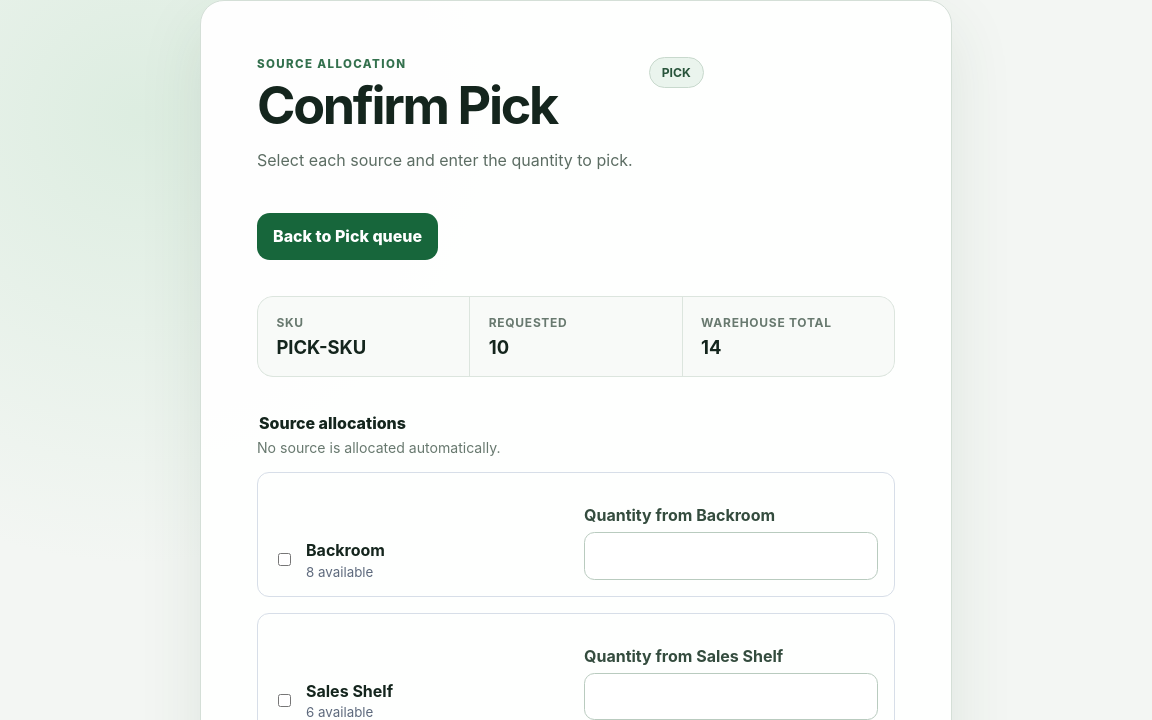
US-PICK-001 Pick page › requires a second explicit action before posting a partial Pick
This screenshot has width=1152, height=720.
Check: the text "PICK-SKU" is shown, box top-left (276, 336), bottom-right (366, 358)
Click the checkbox labelled "Backroom 8 available" at {"x": 284, "y": 560}, box top-left (278, 553), bottom-right (291, 566)
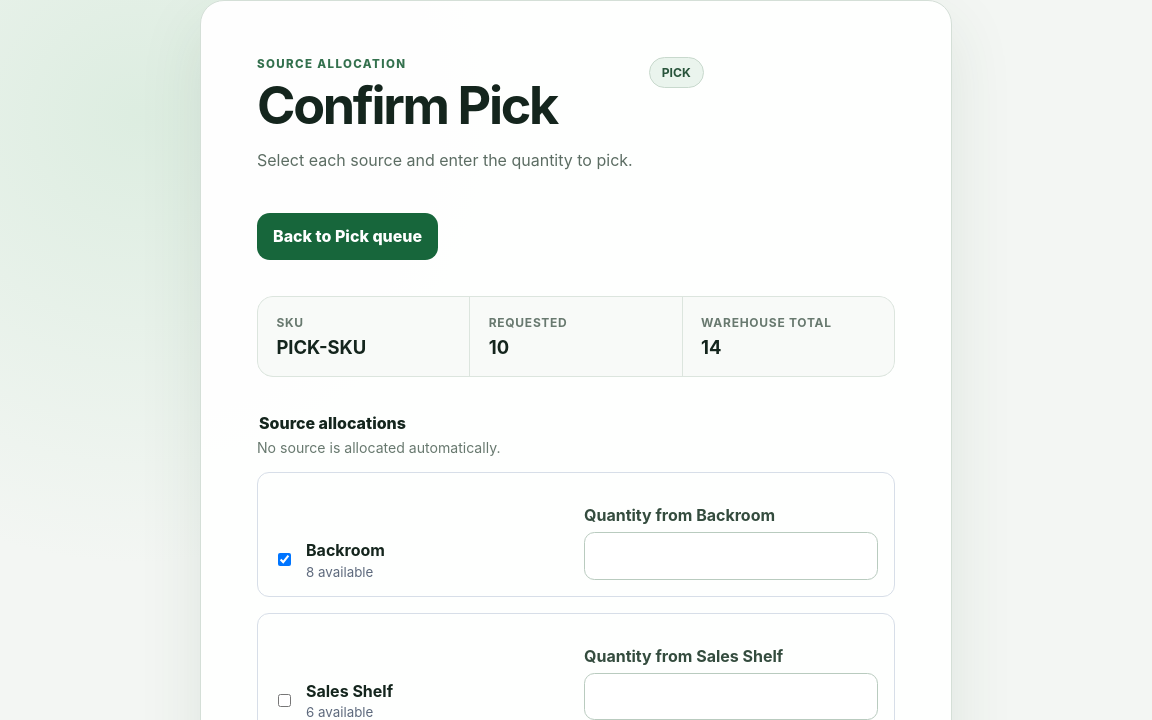
Type "6" into the field labelled "Quantity from Backroom" at {"x": 731, "y": 556}, box top-left (584, 532), bottom-right (878, 580)
(page scrolled)
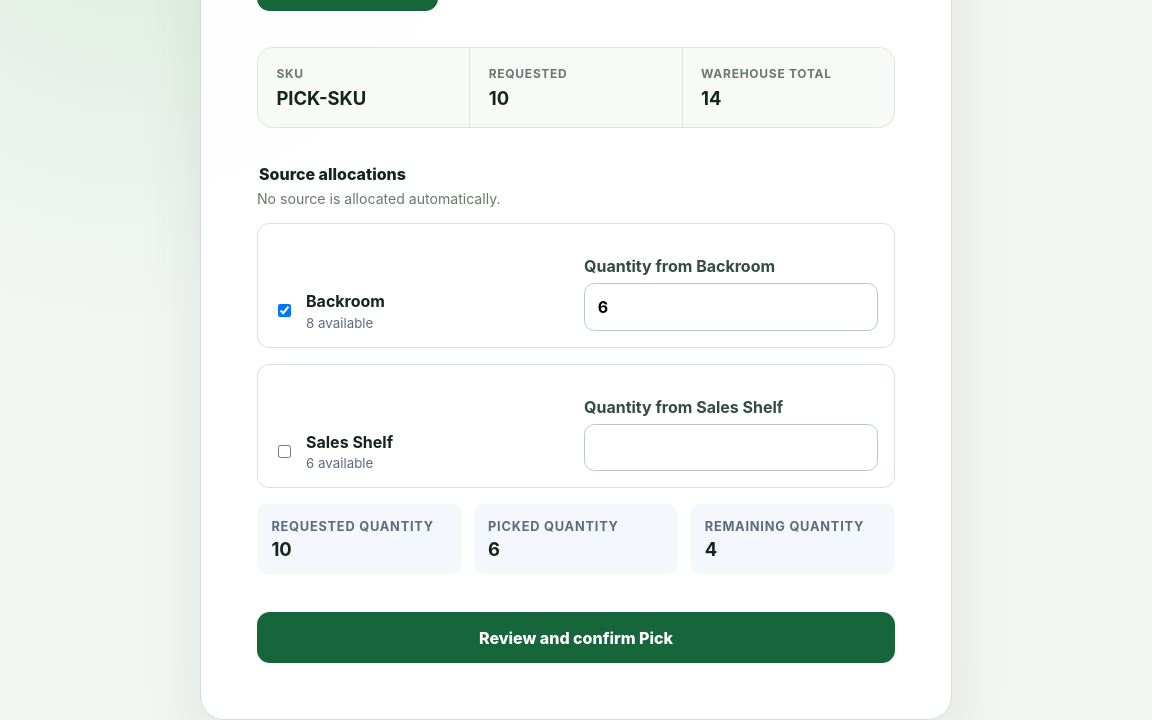
Click the button "Review and confirm Pick" at {"x": 576, "y": 638}, box top-left (257, 612), bottom-right (895, 663)
(page scrolled)
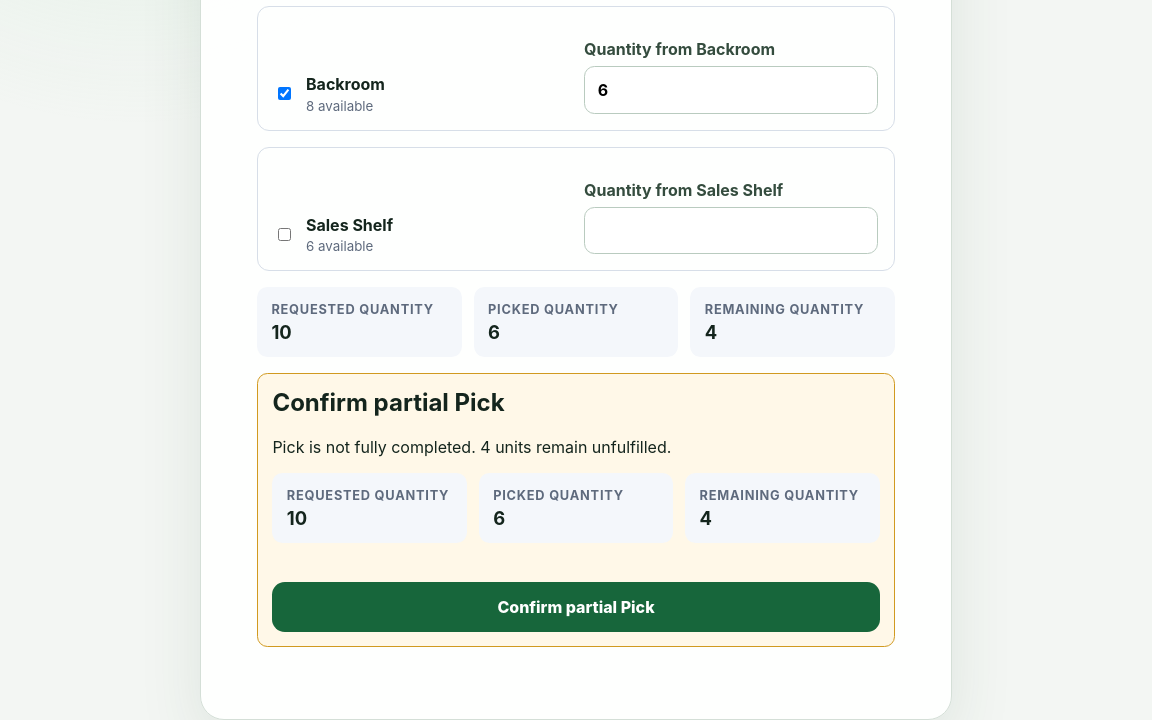
Check: the text "Pick is not fully completed. 4 units remain unfulfilled." is shown, box top-left (272, 437), bottom-right (671, 457)
Check: the text "Requested quantity" is shown 2 times, box top-left (271, 302), bottom-right (447, 317); top-left (287, 488), bottom-right (452, 503)
Click the button "Confirm partial Pick" at {"x": 576, "y": 607}, box top-left (272, 582), bottom-right (880, 632)
(page scrolled)
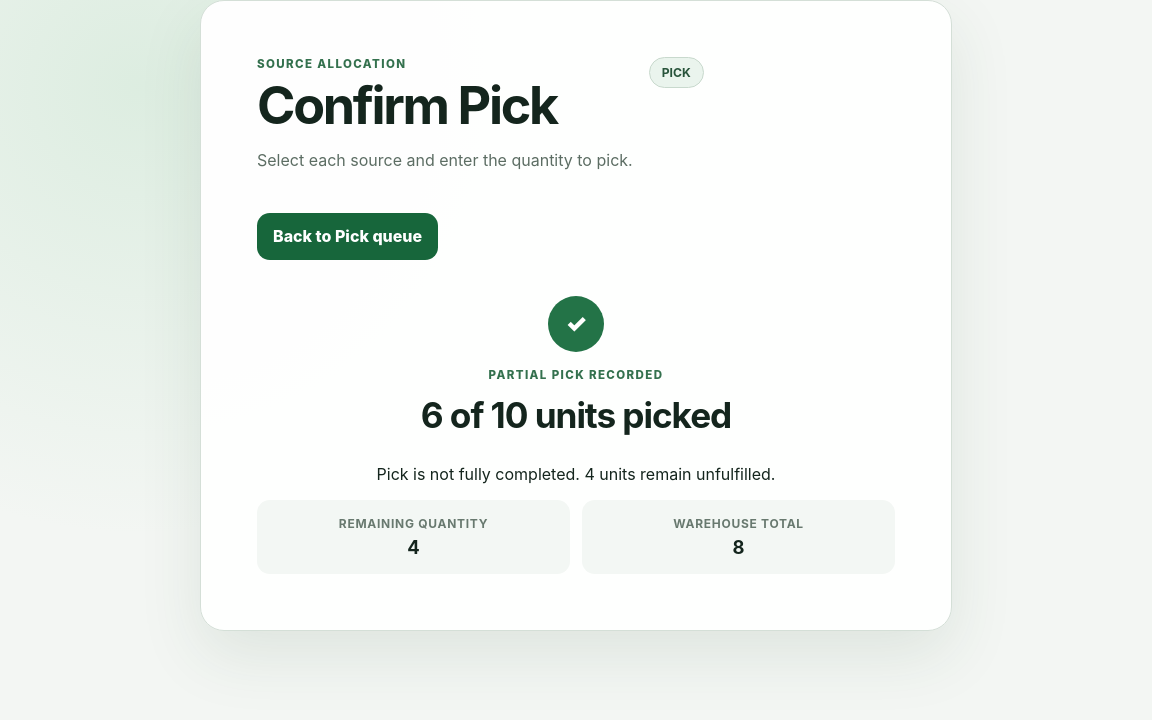
Check: the text "Partial Pick recorded" is shown, box top-left (489, 368), bottom-right (663, 382)
